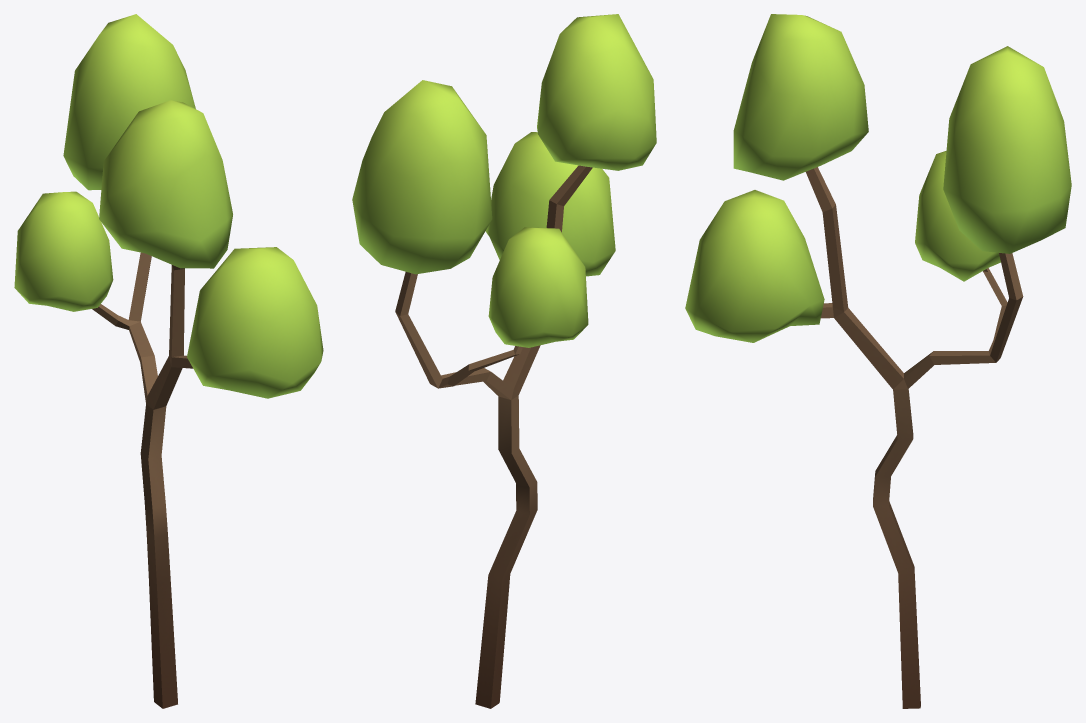
File: Tree2.FBX
3 views of the same model, side by side, from view 1: azimuth 30°, elevation 25°; view 2: azimuth 150°, elevation 25°; view 3: azimuth 270°, elevation 25° (orthographic).
Parts seen in each view (by area): view 1: Tree2; view 2: Tree2; view 3: Tree2.
Boxes of the visible parts, box(x1,y1,x2,y2) form: Tree2: box(14, 14, 323, 708); Tree2: box(352, 14, 656, 708); Tree2: box(685, 14, 1071, 708).
Size of the model in its own units: 257 by 816 by 429.
